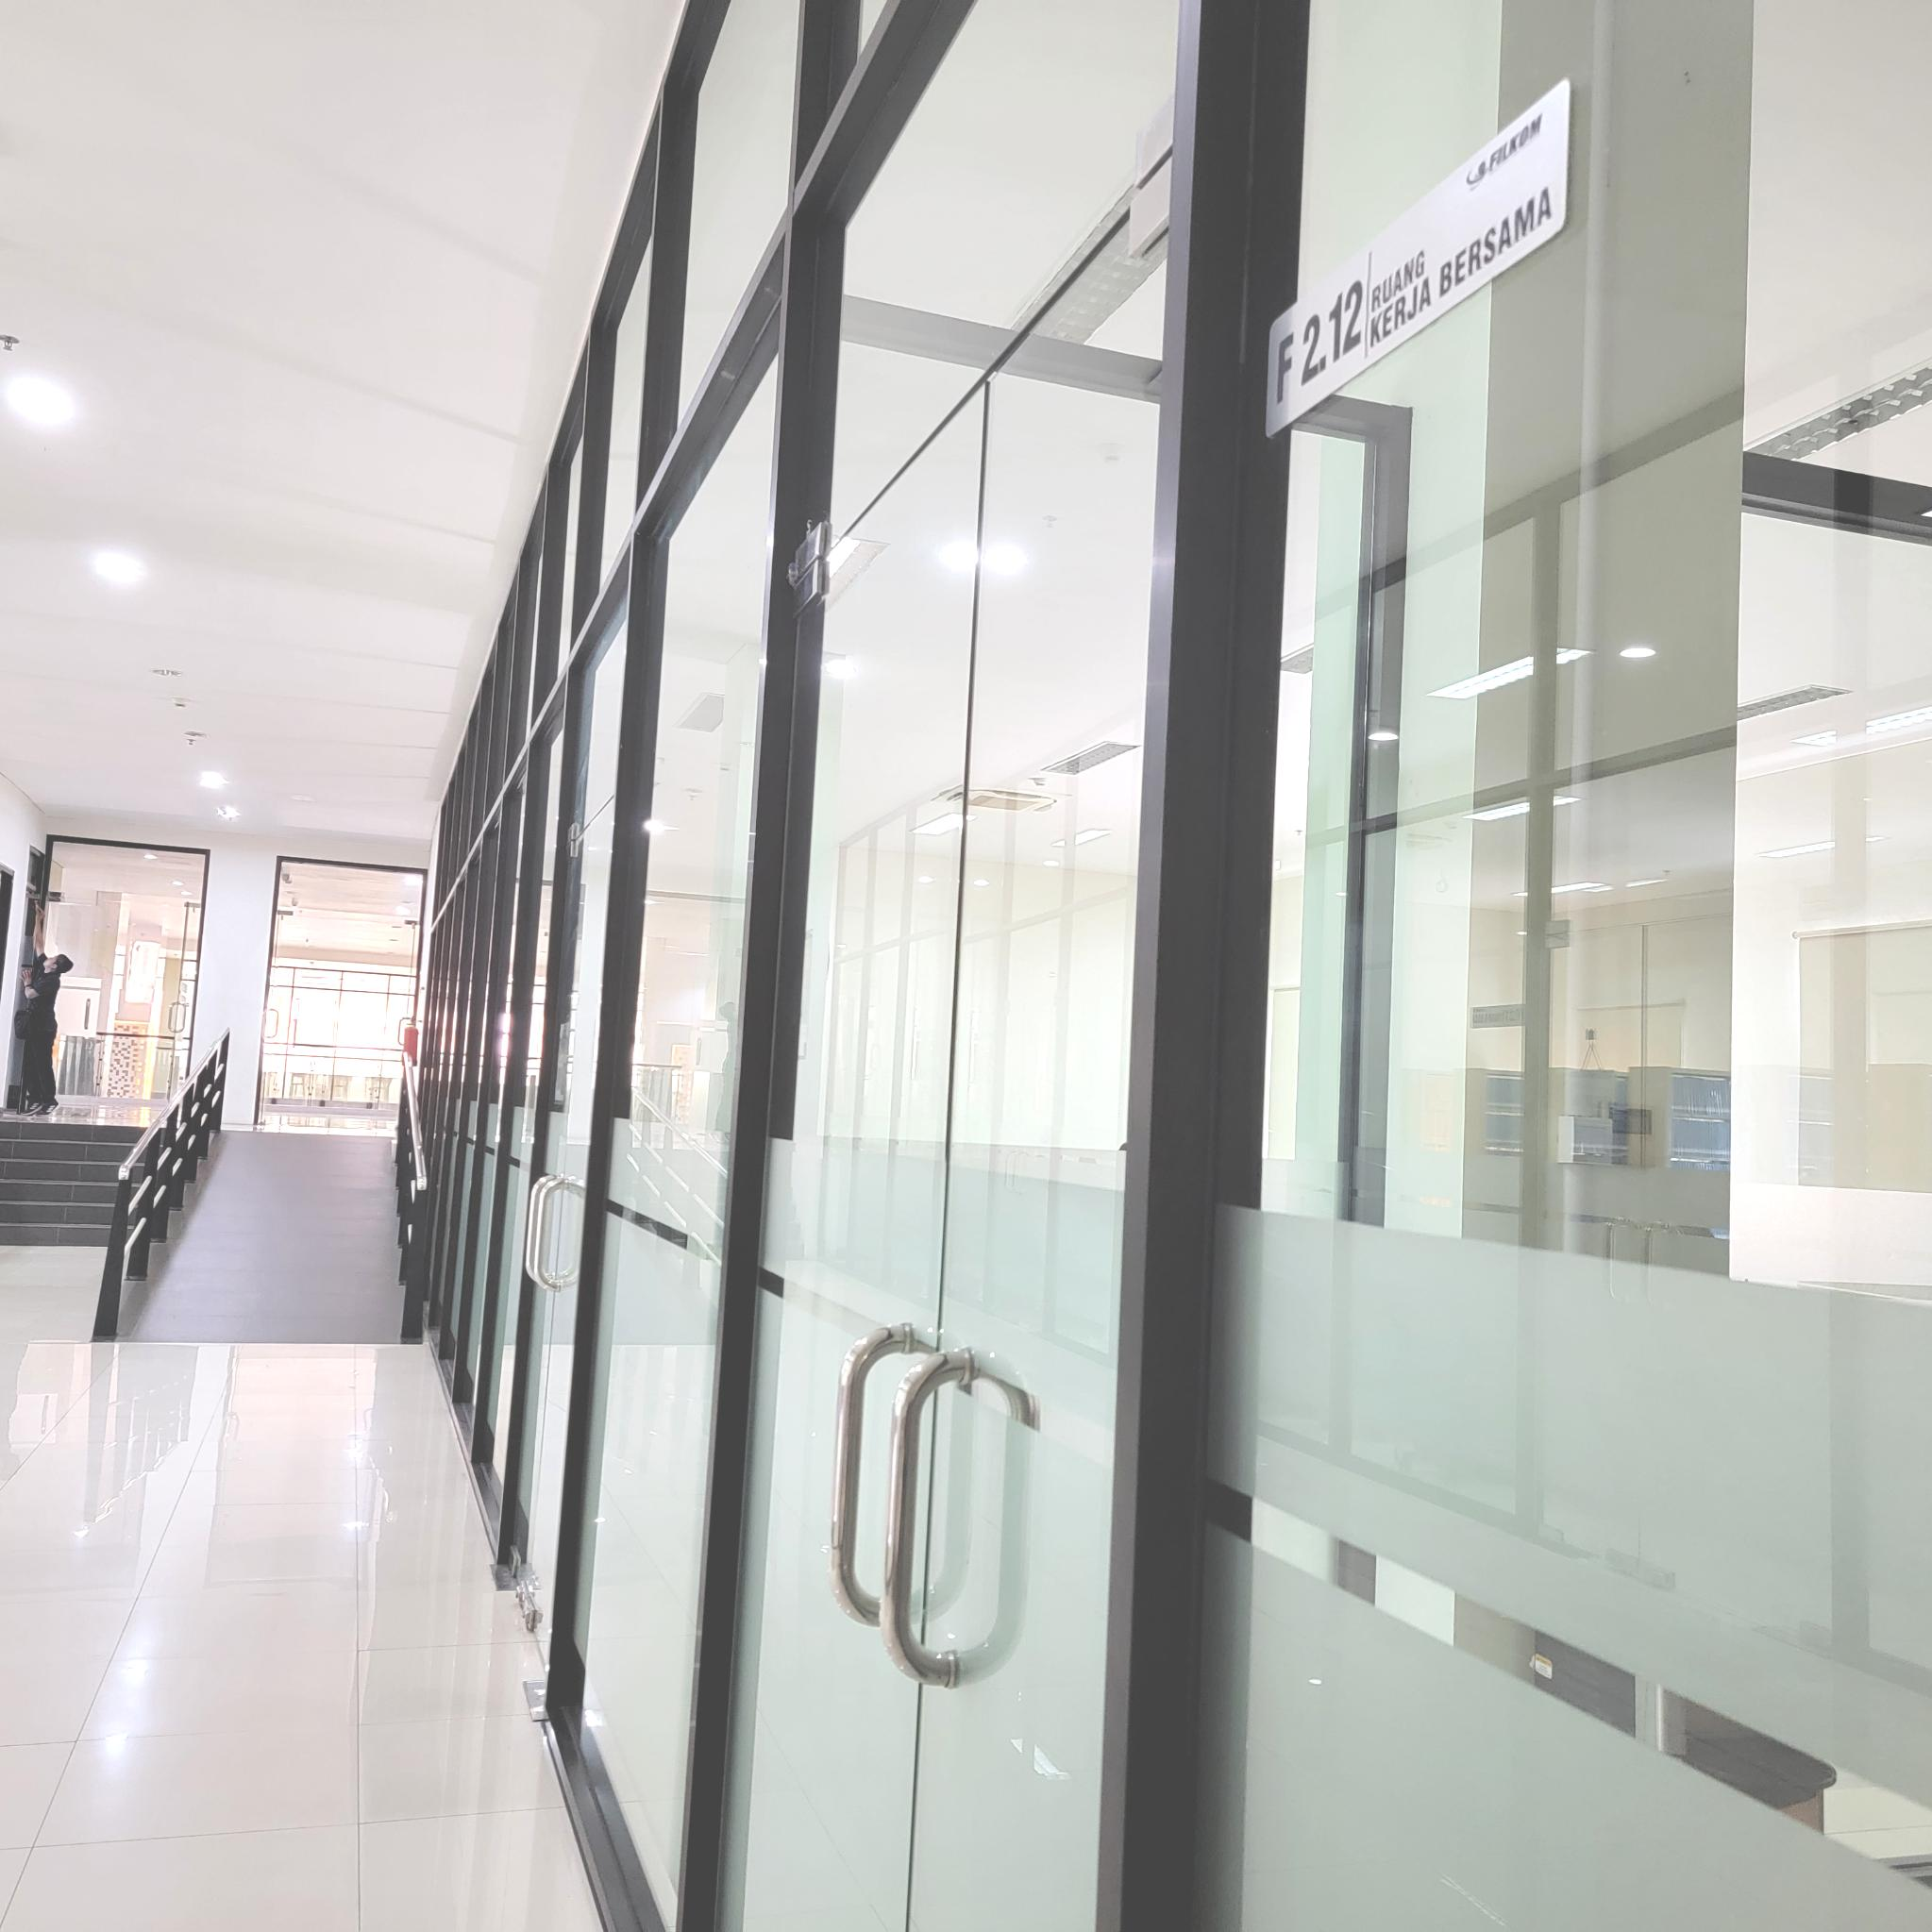plate: (1256, 69, 1573, 446)
